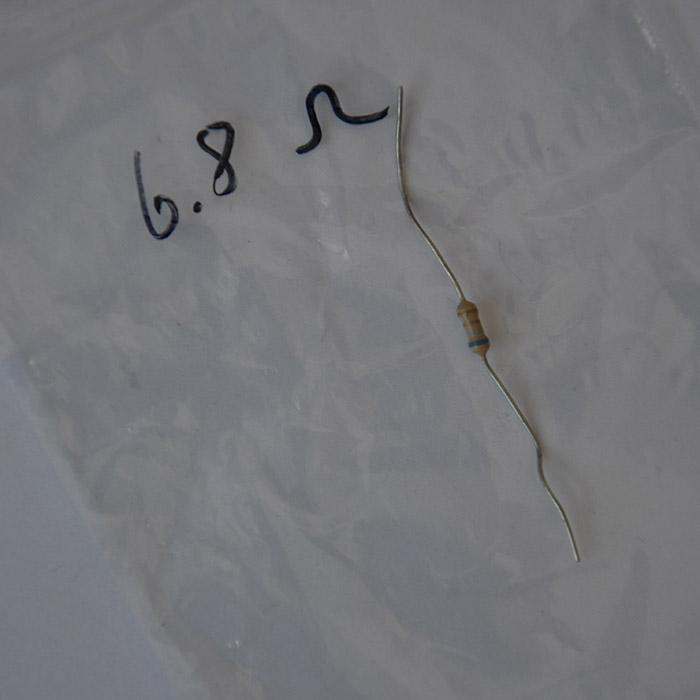resistor: (456, 297, 488, 358)
